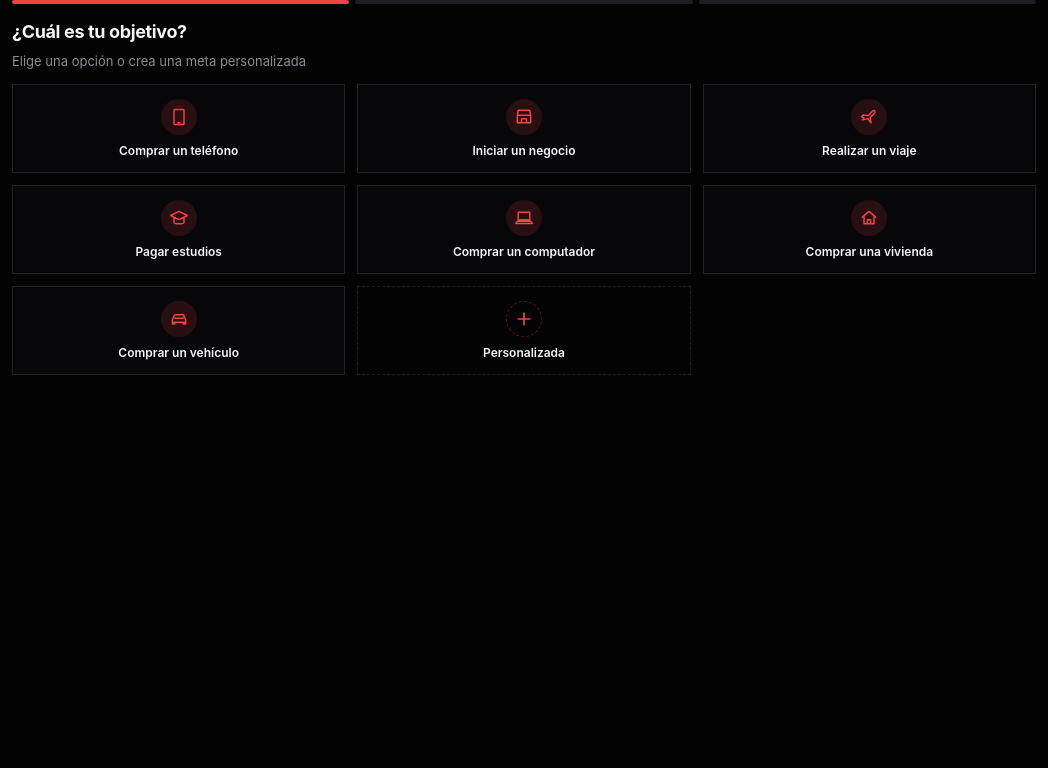
Test: CreateGoalWizard › "Continuar" queda deshabilitado hasta completar titulo, fecha y monto
This screenshot has width=1048, height=768.
Click the button with class "type-tile-custom" at (524, 330), box 357,286 -> 691,375
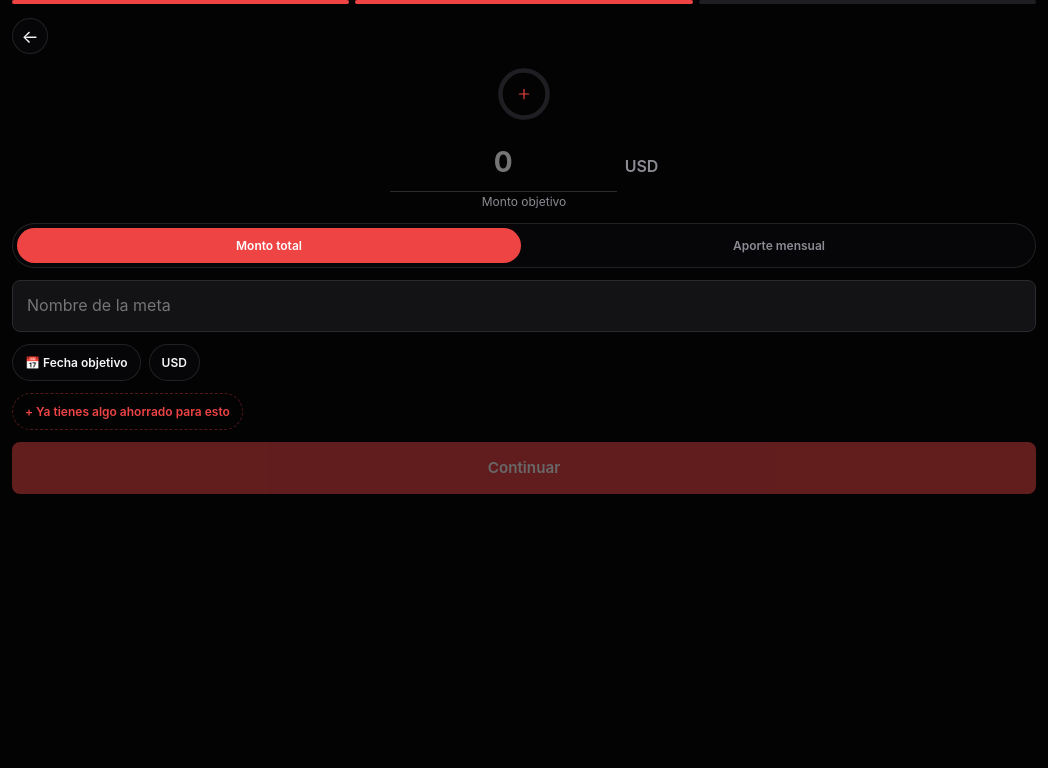
expect the button with class "wizard-next" is disabled: met, box 12,442 -> 1036,494
Type "MacBook" into the field with class "wizard-title-input" at (524, 306), box 12,280 -> 1036,332
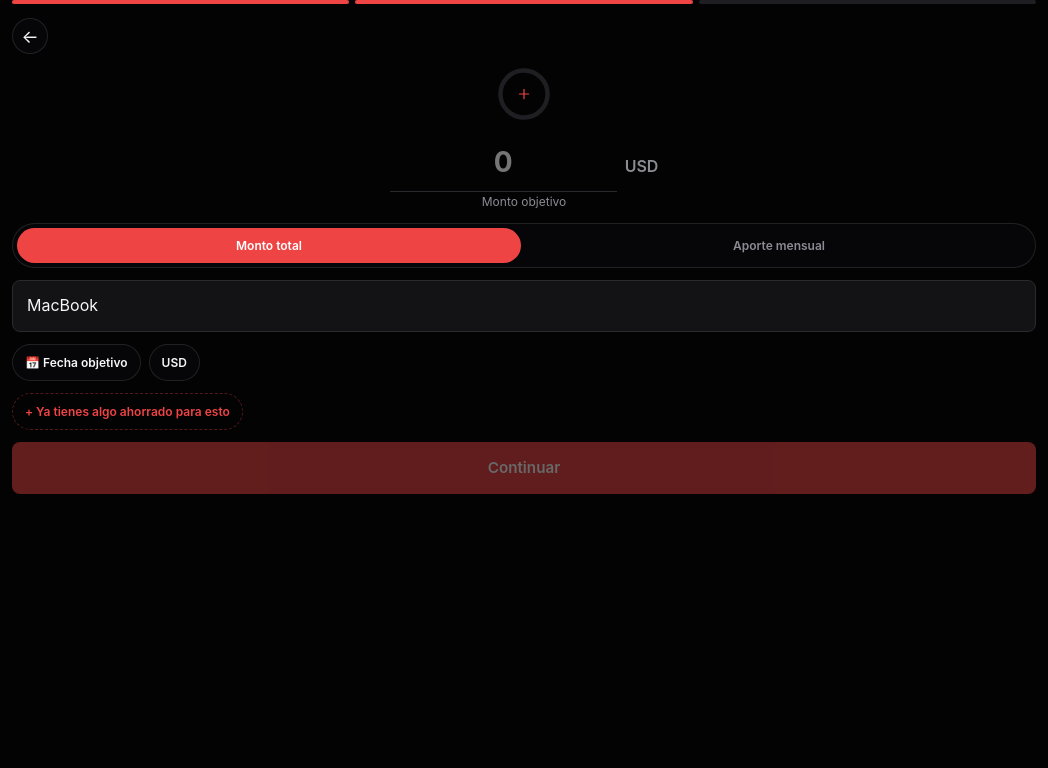
Type "2026-12-28" into the date field labelled "📅 Fecha objetivo" at (76, 362), box 12,344 -> 140,381
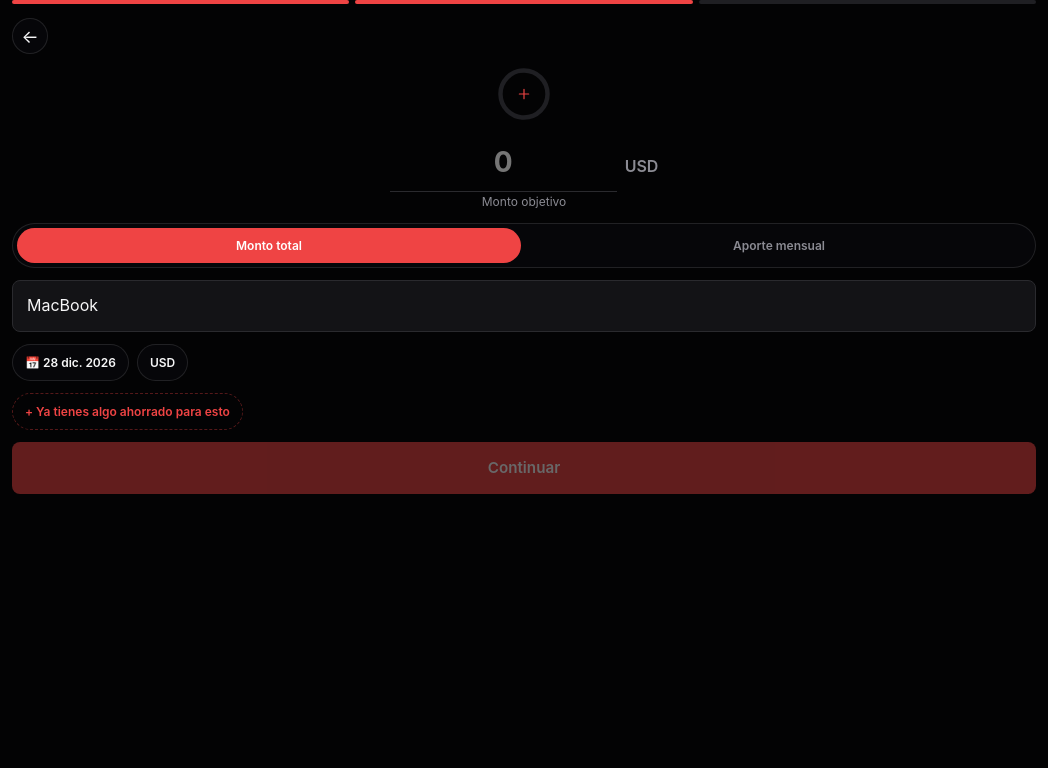
Type "1200" into the field with class "wizard-amount-input" at (503, 163), box 390,134 -> 617,192
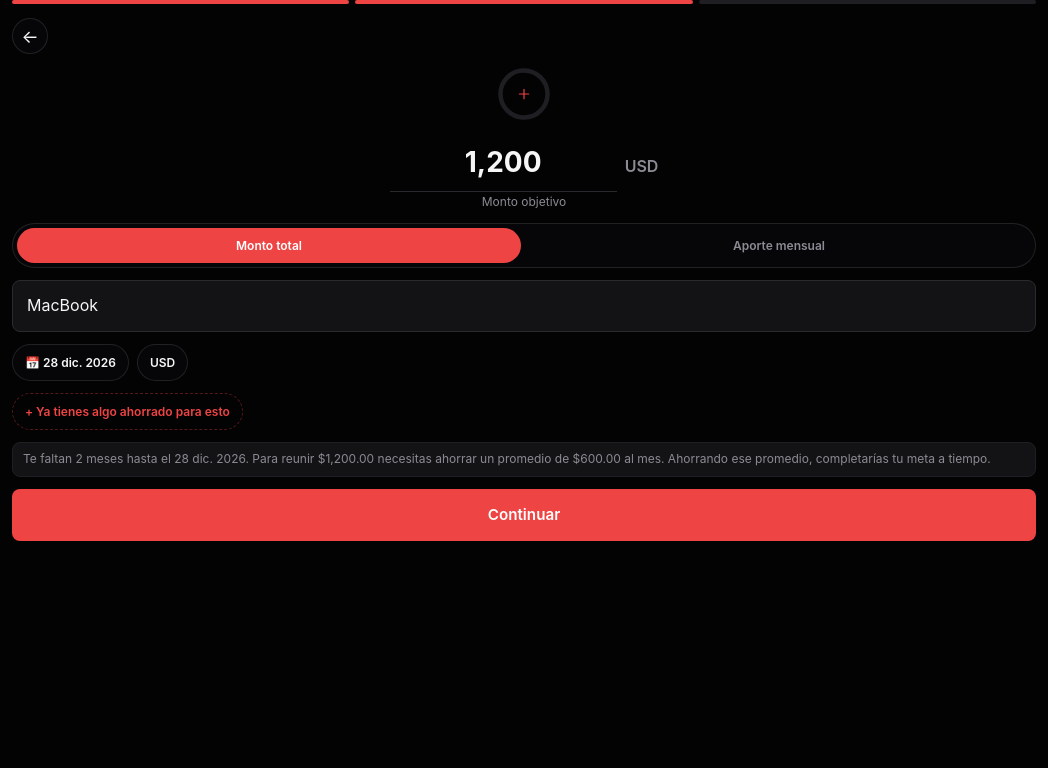
expect the button with class "wizard-next" is enabled: met, box 12,489 -> 1036,541
